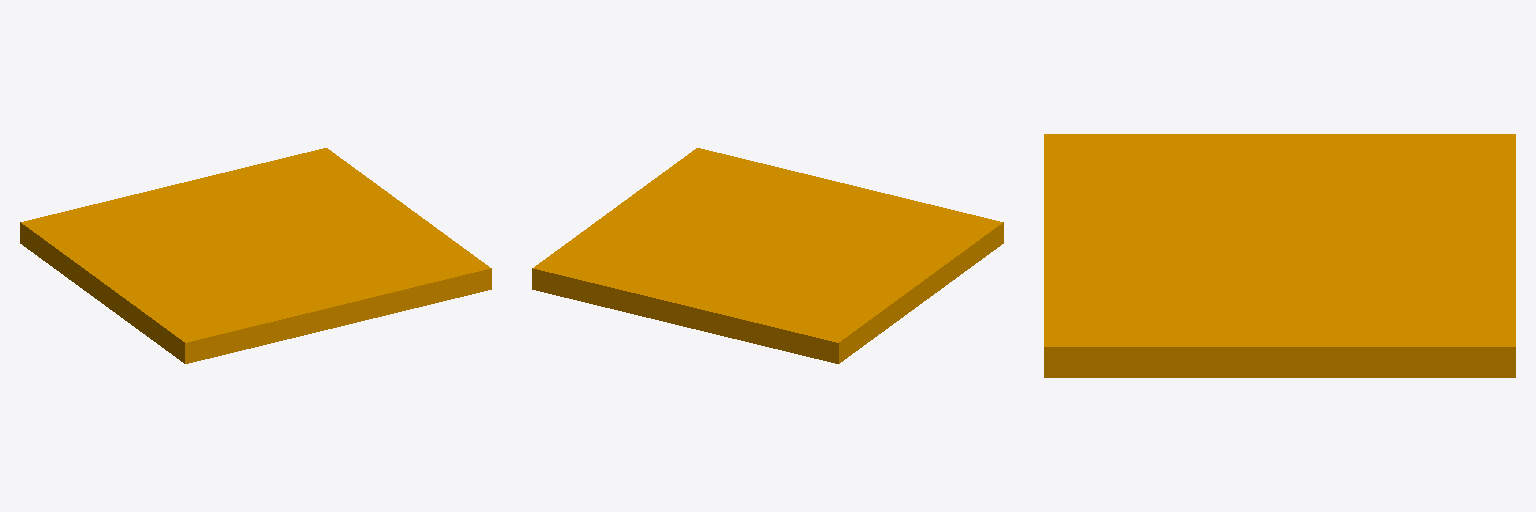
URDF robot description (calibration_marker):
<?xml version="1.0"?>
<!--
  The calibration marker: a flat Motive marker plate on a 3D-printed disk on tool0, for collision checking only
  (it has no driver). The root link sits on tool0, z out of the flange.
  Disk 63 mm across (the flange) and 7 mm thick; plate 150 x 140 x 10 mm on it, centred on the flange axis.
  ? The plate measures 150 x 130 mm but sits off centre; 140 mm covers it either way.
  ! Checked as 150 x 150 mm: which way round the plate is mounted (0 or 90 degrees on the flange) is not known.
-->
<robot name="calibration_marker">
  <link name="calibration_marker">
    <visual>
      <origin xyz="0 0 0.0035"/>
      <geometry><cylinder radius="0.0315" length="0.007"/></geometry>
    </visual>
    <visual>
      <origin xyz="0 0 0.012"/>
      <geometry><box size="0.150 0.140 0.010"/></geometry>
    </visual>
    <collision>
      <origin xyz="0 0 0.0035"/>
      <geometry><cylinder radius="0.0315" length="0.007"/></geometry>
    </collision>
    <collision>
      <origin xyz="0 0 0.012"/>
      <geometry><box size="0.150 0.150 0.010"/></geometry>
    </collision>
  </link>
  <link name="tcp"/>
  <joint name="calibration_marker-tcp" type="fixed">
    <parent link="calibration_marker"/>
    <child link="tcp"/>
  </joint>
</robot>

--- Render facts (derived) ---
Views: 3 orthographic renders of the robot side by side, from view 1: azimuth 30°, elevation 25°; view 2: azimuth 150°, elevation 25°; view 3: azimuth 270°, elevation 25°.
Robot: calibration_marker — 2 links, 1 joints (1 fixed); root link calibration_marker; default pose: every joint at zero.
Visible links, largest first — view 1: calibration_marker; view 2: calibration_marker; view 3: calibration_marker.
Link boxes in pixels (x1,y1,x2,y2): calibration_marker: (20, 148, 491, 363); calibration_marker: (532, 148, 1003, 363); calibration_marker: (1044, 134, 1515, 377).
Bounding box of the posed robot: 0.15 × 0.14 × 0.017 m (x, y, z).
Geometry: primitives only (box / cylinder / sphere), no mesh files.
